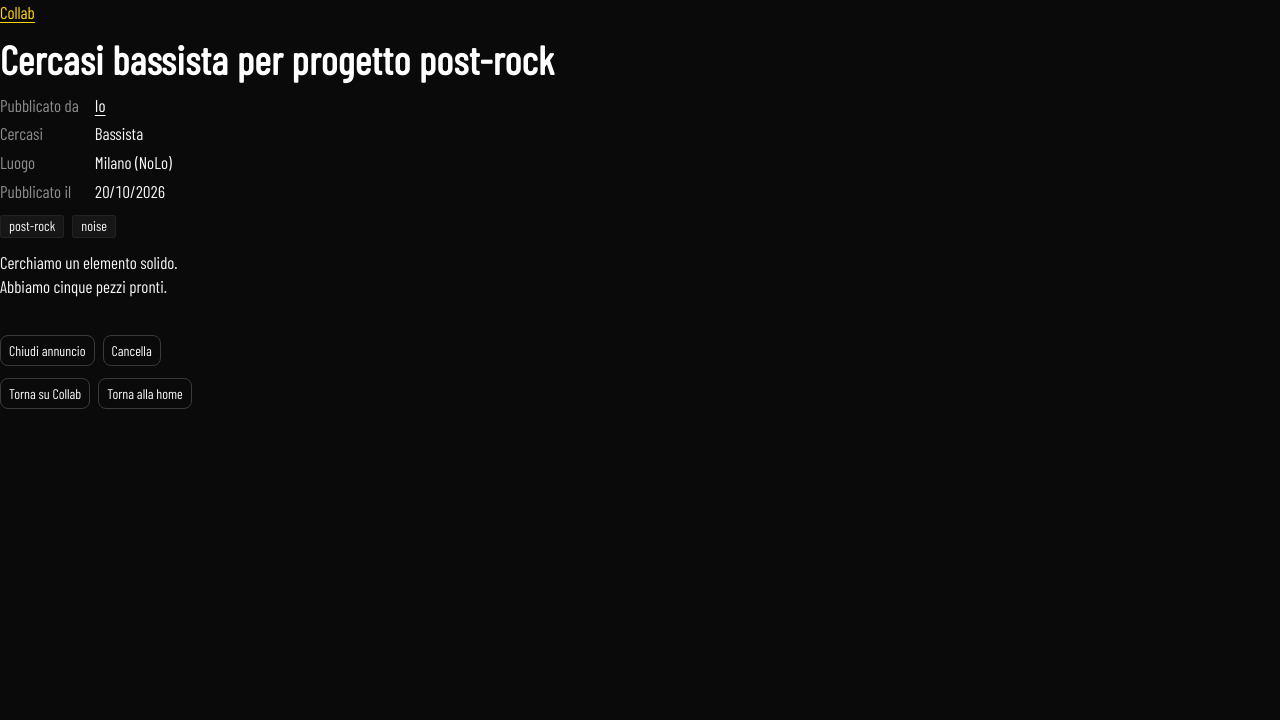
Test: CollabDetailPage · azioni del proprietario › un errore alla chiusura mostra il messaggio del suo codice e l'annuncio resta aperto
Click the button "Chiudi annuncio".
click(47, 350)  # box [0,335,94,366]
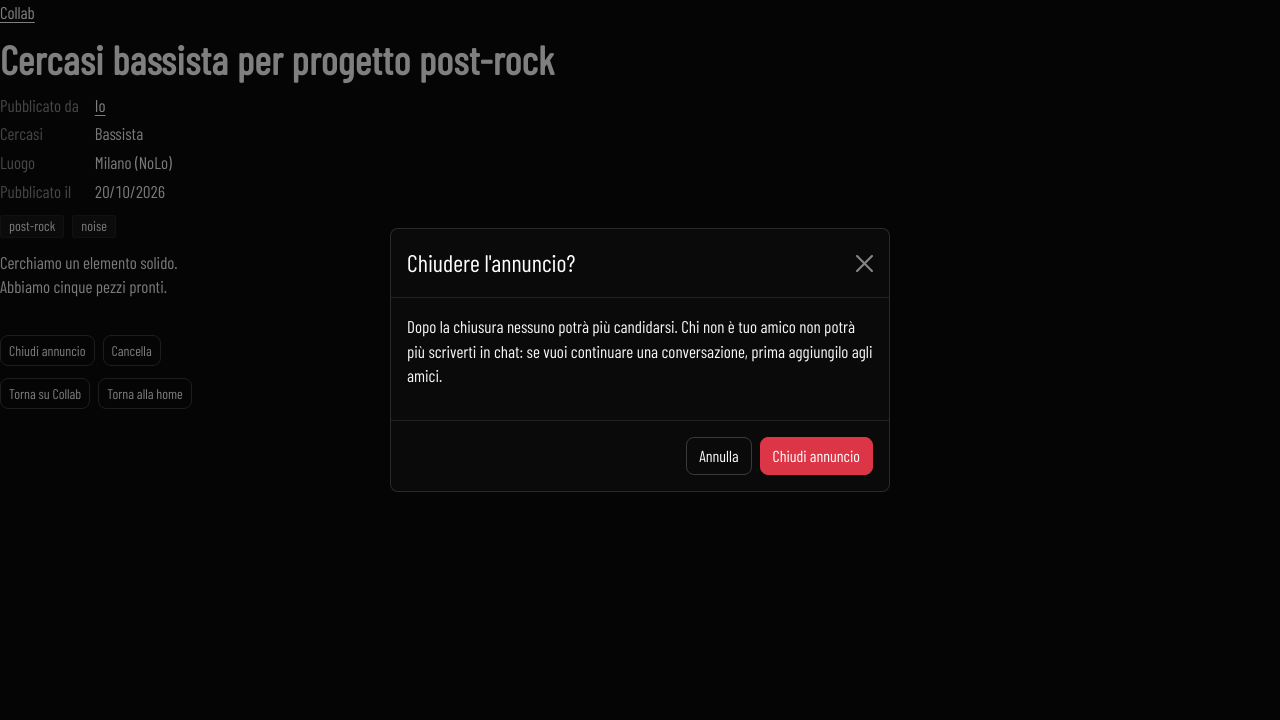
Click the button "Chiudi annuncio".
click(816, 456)  # box [760,437,873,475]
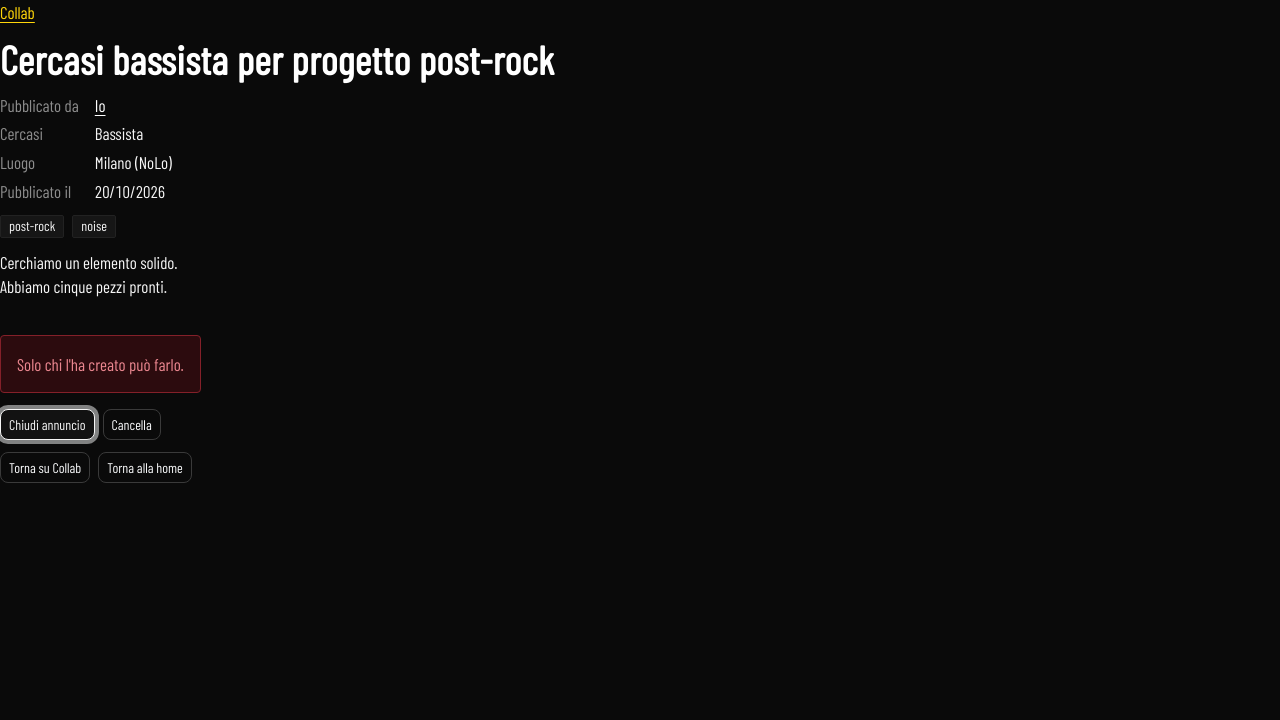
Check: the text "Solo chi l'ha creato può farlo." is shown, box [0,335,201,393]
